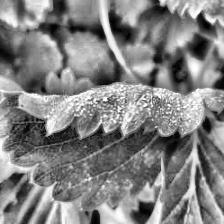Powdery Mildew Leaf: (0, 81, 224, 212)
